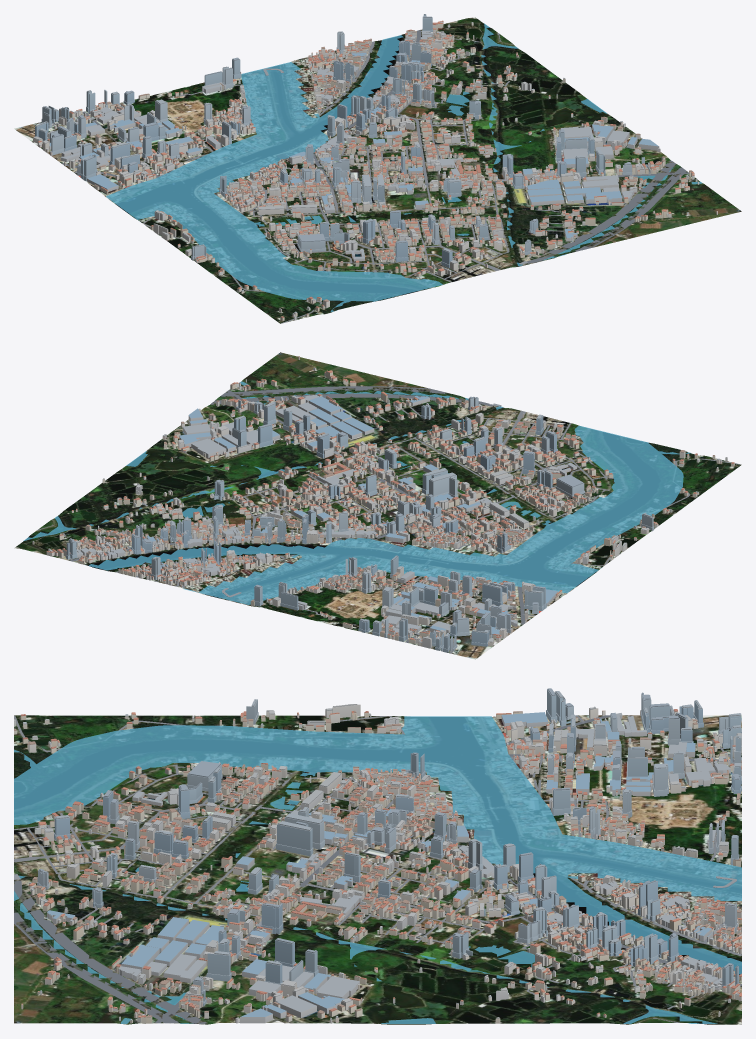
The picture shows the model from 3 angles, top to bottom: view 1: azimuth 30°, elevation 25°; view 2: azimuth 150°, elevation 25°; view 3: azimuth 270°, elevation 25°; orthographic projection. The views are drawn at different scales.
Visible parts, largest first — view 1: TERRAIN, WATER, BLDG_SHOPHOUSE_VILLA, BLDG_MODERN_TOWER, BLDG_INDUSTRIAL_PORT, BLDG_APARTMENT, BLDG_TUBE_HOUSE, ROAD_METRO; view 2: TERRAIN, WATER, BLDG_SHOPHOUSE_VILLA, BLDG_MODERN_TOWER, BLDG_INDUSTRIAL_PORT, BLDG_APARTMENT, BLDG_TUBE_HOUSE, ROAD_METRO; view 3: TERRAIN, WATER, BLDG_SHOPHOUSE_VILLA, BLDG_MODERN_TOWER, BLDG_INDUSTRIAL_PORT, BLDG_APARTMENT, BLDG_TUBE_HOUSE, ROAD_METRO.
Part boxes in pixels (<box>): TERRAIN: <box>14,17,741,323</box>; WATER: <box>106,23,702,311</box>; BLDG_SHOPHOUSE_VILLA: <box>37,20,694,320</box>; BLDG_MODERN_TOWER: <box>34,14,650,268</box>; BLDG_INDUSTRIAL_PORT: <box>49,31,659,261</box>; BLDG_APARTMENT: <box>33,31,644,270</box>; BLDG_TUBE_HOUSE: <box>39,21,717,320</box>; ROAD_METRO: <box>39,30,688,323</box>; TERRAIN: <box>14,352,740,659</box>; WATER: <box>23,381,691,604</box>; BLDG_SHOPHOUSE_VILLA: <box>46,370,734,643</box>; BLDG_MODERN_TOWER: <box>66,396,654,652</box>; BLDG_INDUSTRIAL_PORT: <box>76,395,577,637</box>; BLDG_APARTMENT: <box>75,395,649,648</box>; BLDG_TUBE_HOUSE: <box>32,356,727,646</box>; ROAD_METRO: <box>37,386,741,653</box>; TERRAIN: <box>14,715,741,1024</box>; WATER: <box>14,716,741,1023</box>; BLDG_SHOPHOUSE_VILLA: <box>14,709,741,1023</box>; BLDG_MODERN_TOWER: <box>37,688,741,1006</box>; BLDG_INDUSTRIAL_PORT: <box>47,712,730,1023</box>; BLDG_APARTMENT: <box>44,704,741,1010</box>; BLDG_TUBE_HOUSE: <box>14,710,741,1023</box>; ROAD_METRO: <box>14,715,741,1023</box>.
Bounding box in the file's own units: 2000 × 92.55 × 2000.
Materials: 8 (1 with a texture image).
